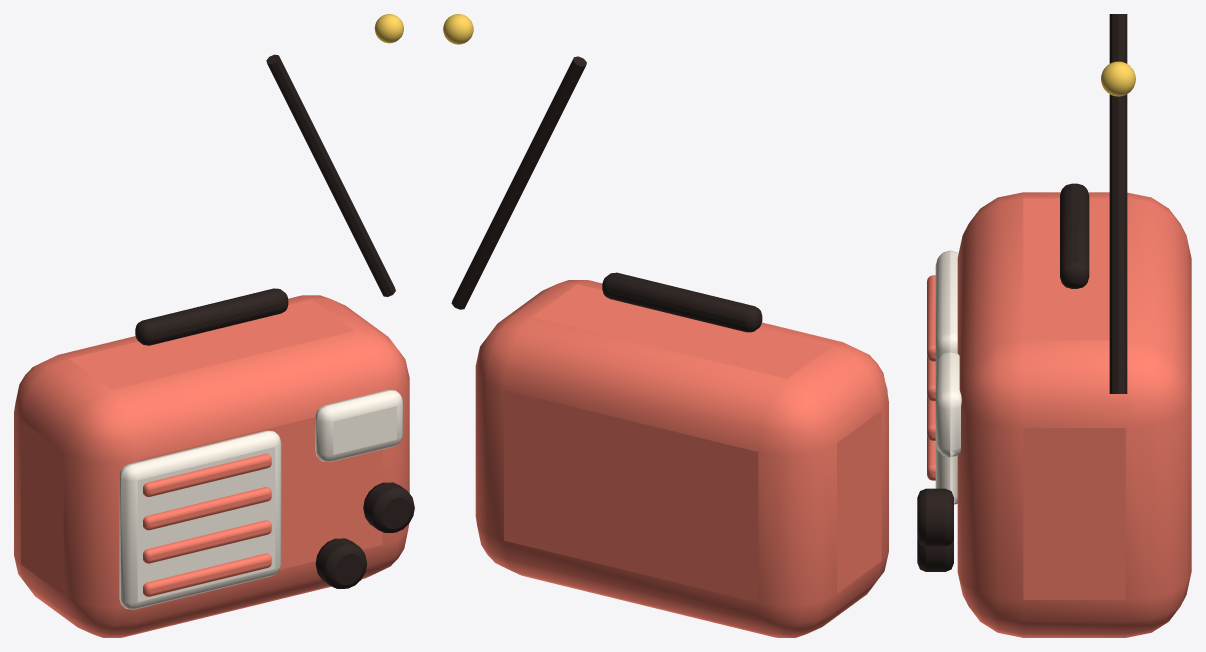
The model's file is prop-radio.glb.
The picture shows the model from 3 angles, left to right: view 1: azimuth 30°, elevation 25°; view 2: azimuth 150°, elevation 25°; view 3: azimuth 270°, elevation 25°; orthographic projection. The views are drawn at different scales.
Parts seen in each view (by area): view 1: Body, Grill, Dial, Handle, Antenna, Knob0, Knob1, Bar2, Bar0, Bar1, Bar3, AntennaTip; view 2: Body, Handle, Antenna, AntennaTip; view 3: Body, Antenna, Grill, Handle, Dial, Knob1, AntennaTip, Knob0, Bar3.
Boxes of the visible parts, box(x1,y1,x2,y2) form: Body: box(14, 295, 409, 637); Grill: box(119, 430, 281, 609); Dial: box(315, 390, 402, 462); Handle: box(135, 288, 288, 345); Antenna: box(266, 54, 395, 296); Knob0: box(315, 538, 366, 588); Knob1: box(363, 482, 414, 532); Bar2: box(143, 487, 271, 530); Bar0: box(143, 553, 271, 596); Bar1: box(143, 520, 271, 563); Bar3: box(143, 453, 271, 496); AntennaTip: box(374, 14, 403, 43); Body: box(475, 280, 888, 637); Handle: box(602, 272, 762, 332); Antenna: box(451, 56, 586, 309); AntennaTip: box(443, 14, 473, 44); Body: box(957, 192, 1191, 637); Antenna: box(1109, 14, 1127, 393); Grill: box(935, 250, 958, 504); Handle: box(1060, 183, 1089, 288); Dial: box(935, 351, 961, 457); Knob1: box(917, 488, 953, 546); AntennaTip: box(1101, 61, 1135, 96); Knob0: box(917, 538, 953, 571); Bar3: box(927, 275, 935, 361).
Bounding box in the file's own units: 0.357 × 0.462 × 0.1875.
